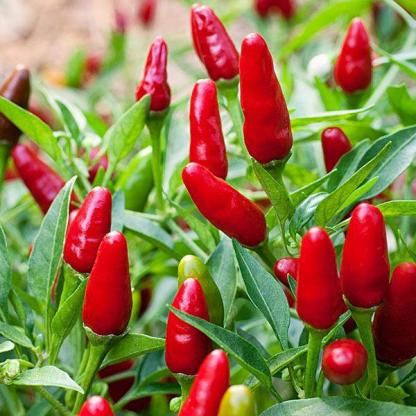other: (33, 11, 402, 397)
